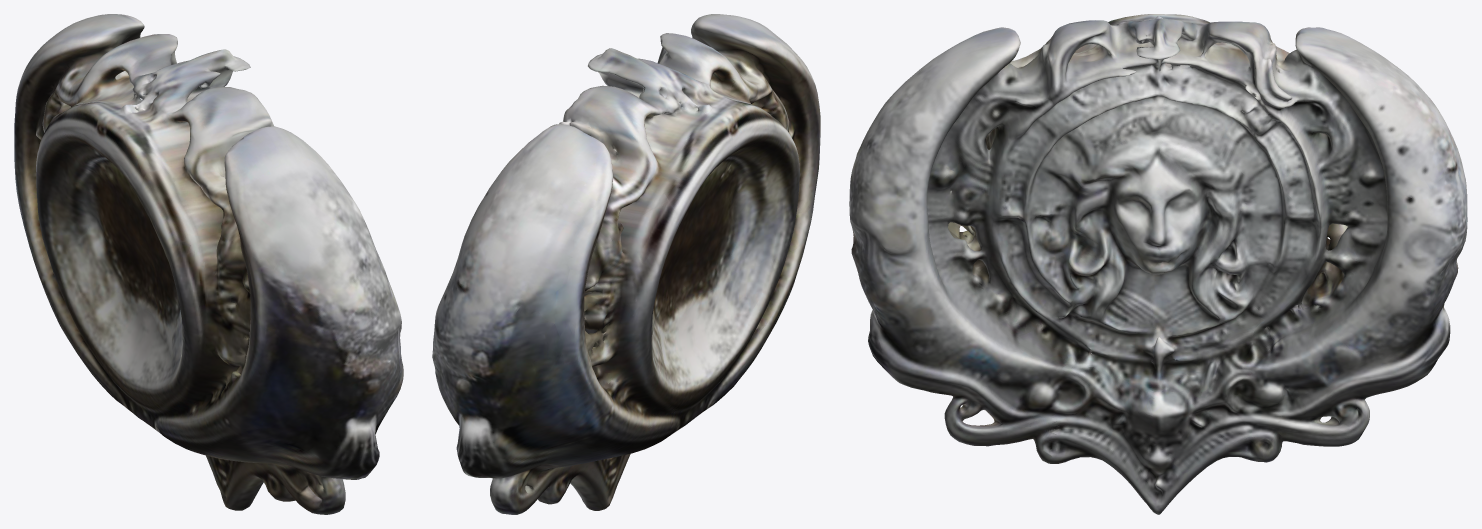
File: triple_moon_3d.glb
3 views of the same model, side by side, from view 1: azimuth 30°, elevation 25°; view 2: azimuth 150°, elevation 25°; view 3: azimuth 270°, elevation 25° (orthographic).
Parts seen in each view (by area): view 1: tripo_node_0e0932ed-03f9-4f7c-abd0-7c14b672bc6a; view 2: tripo_node_0e0932ed-03f9-4f7c-abd0-7c14b672bc6a; view 3: tripo_node_0e0932ed-03f9-4f7c-abd0-7c14b672bc6a.
Boxes of the visible parts, left/top/right/bottom form: tripo_node_0e0932ed-03f9-4f7c-abd0-7c14b672bc6a: left=14, top=14, right=403, bottom=514; tripo_node_0e0932ed-03f9-4f7c-abd0-7c14b672bc6a: left=432, top=14, right=820, bottom=514; tripo_node_0e0932ed-03f9-4f7c-abd0-7c14b672bc6a: left=849, top=14, right=1467, bottom=514.
Size of the model in its own units: 0.2683 by 0.6718 by 0.7951.
Materials: 1 (1 with a texture image).
